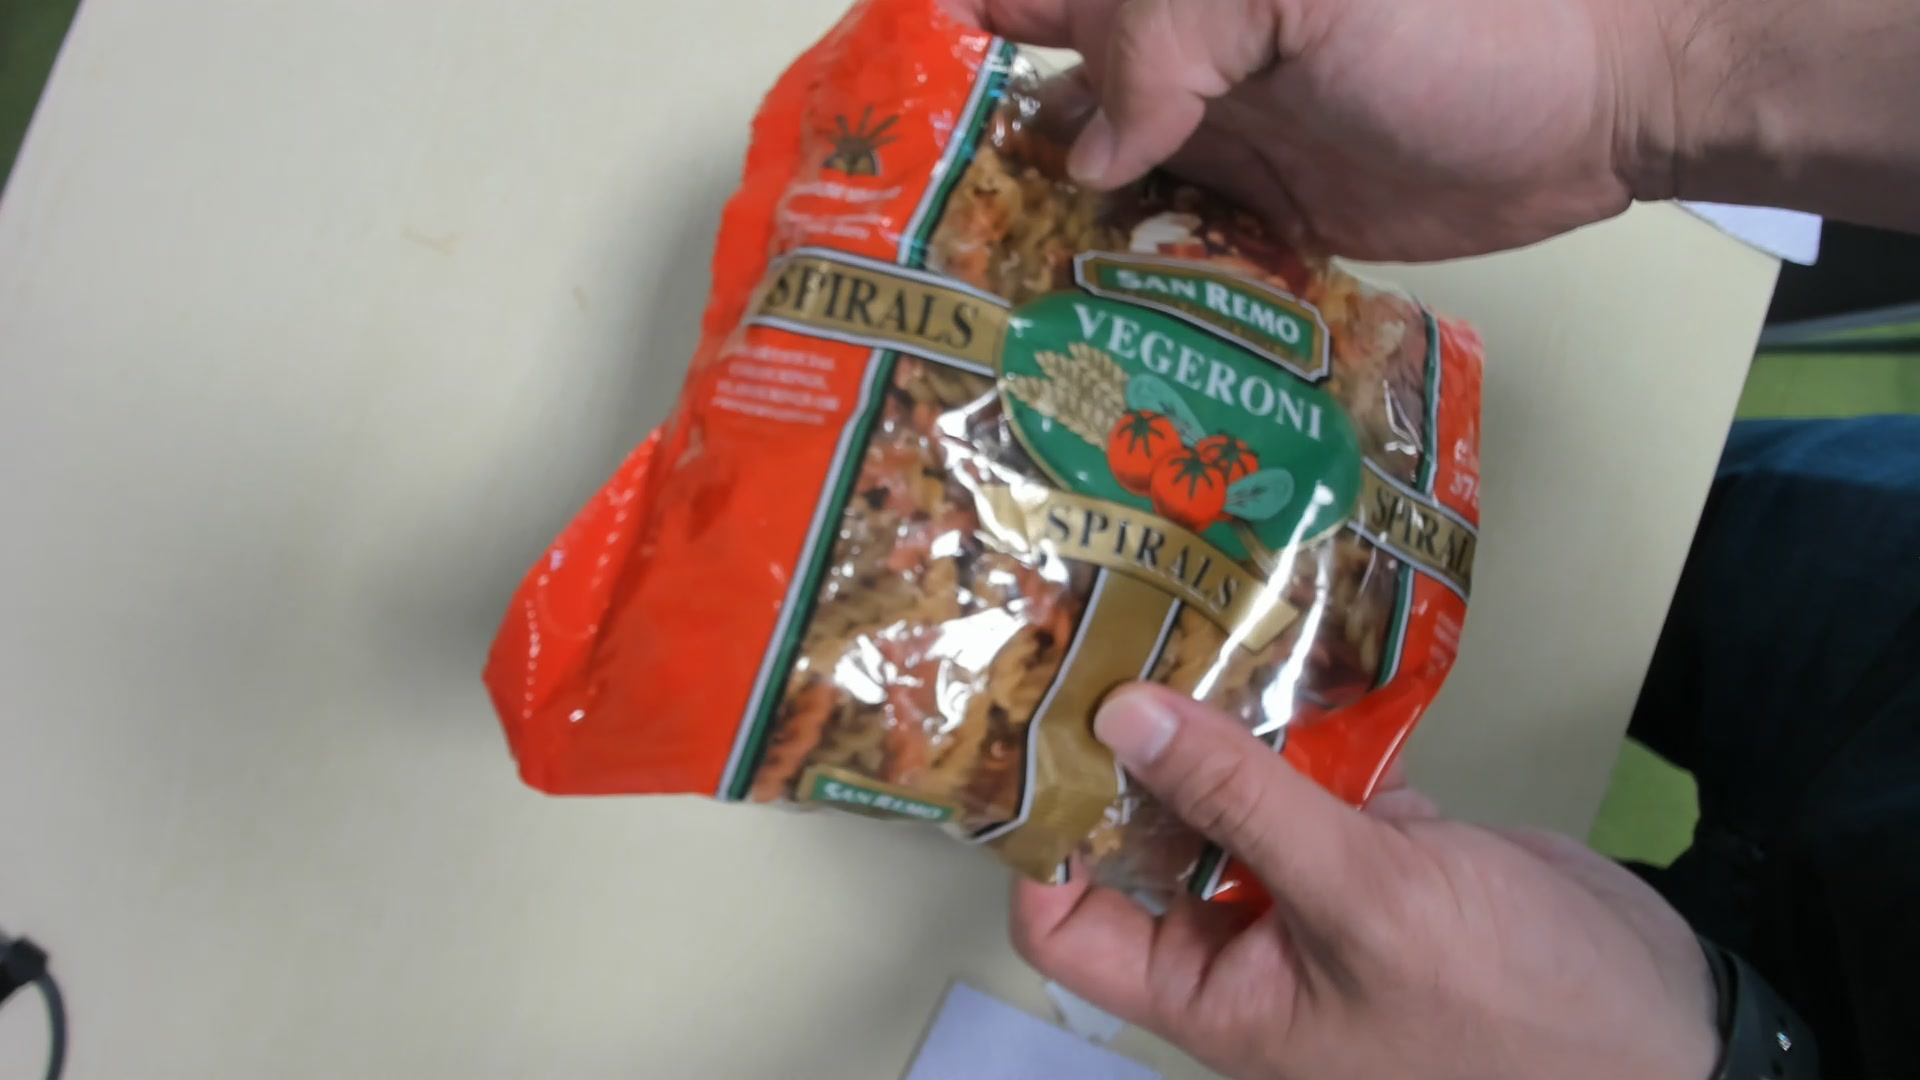Pasta_400-499g_Halal_NonHealthy: (483, 5, 1486, 927)
